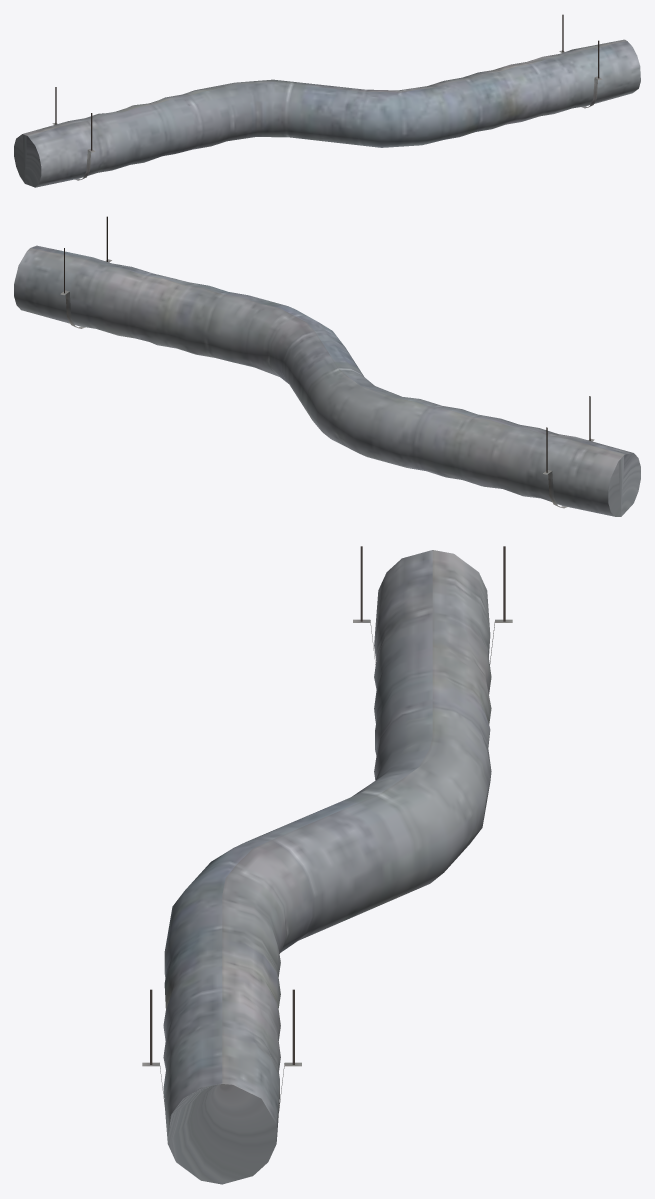
Rendered from air_duct_300_b.glb.
The picture shows the model from 3 angles, top to bottom: view 1: azimuth 30°, elevation 25°; view 2: azimuth 150°, elevation 25°; view 3: azimuth 270°, elevation 25°; orthographic projection. The views are drawn at different scales.
Visible parts, largest first — view 1: air_duct_300_b; view 2: air_duct_300_b; view 3: air_duct_300_b.
Boxes of the visible parts, left/top/right/bottom form: air_duct_300_b: left=14, top=14, right=640, bottom=187; air_duct_300_b: left=14, top=216, right=640, bottom=516; air_duct_300_b: left=142, top=546, right=512, bottom=1184.
Size of the model in its own units: 3 by 0.4091 by 0.8786.
1 material, 1 textured.
